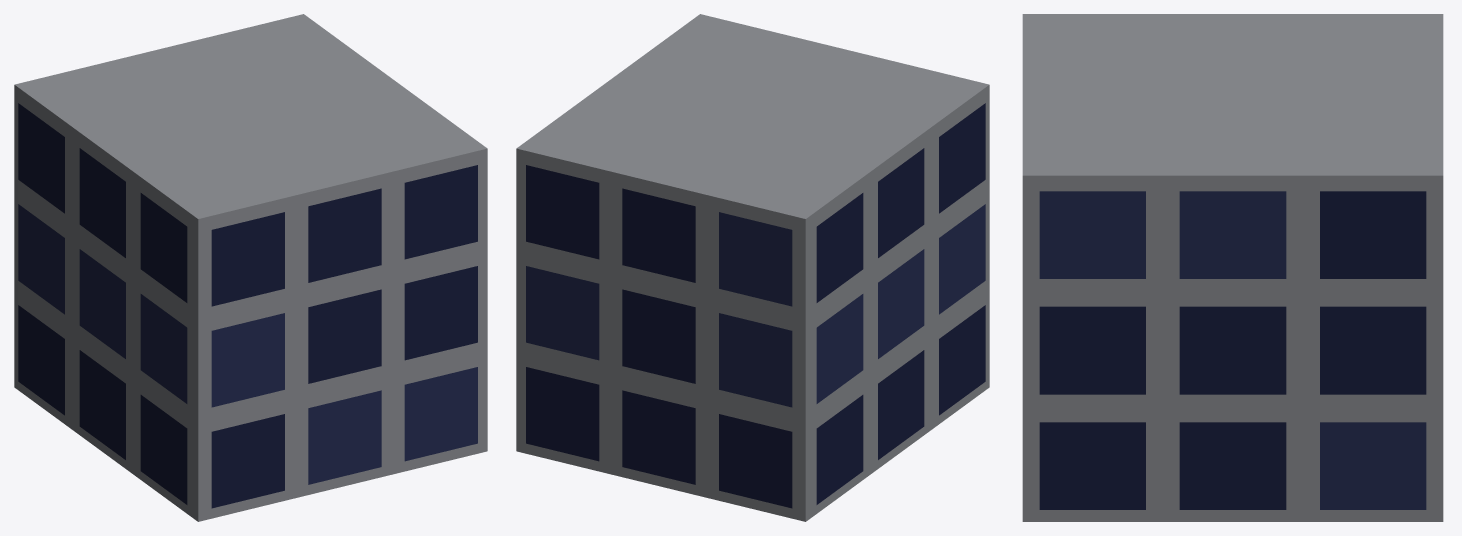
Rendered from gen-box-solar.obj.
The picture shows the model from 3 angles, left to right: view 1: azimuth 30°, elevation 25°; view 2: azimuth 150°, elevation 25°; view 3: azimuth 270°, elevation 25°; orthographic projection. The views are drawn at different scales.
Visible parts, largest first — view 1: gen-box-solar; view 2: gen-box-solar; view 3: gen-box-solar.
Part boxes in pixels (x1,y1,x2,y2): gen-box-solar: (14,14,487,521); gen-box-solar: (516,14,989,521); gen-box-solar: (1022,14,1443,521).
Size of the model in its own units: 1.02 by 1 by 1.12.
